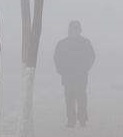person: (53, 20, 97, 128)
